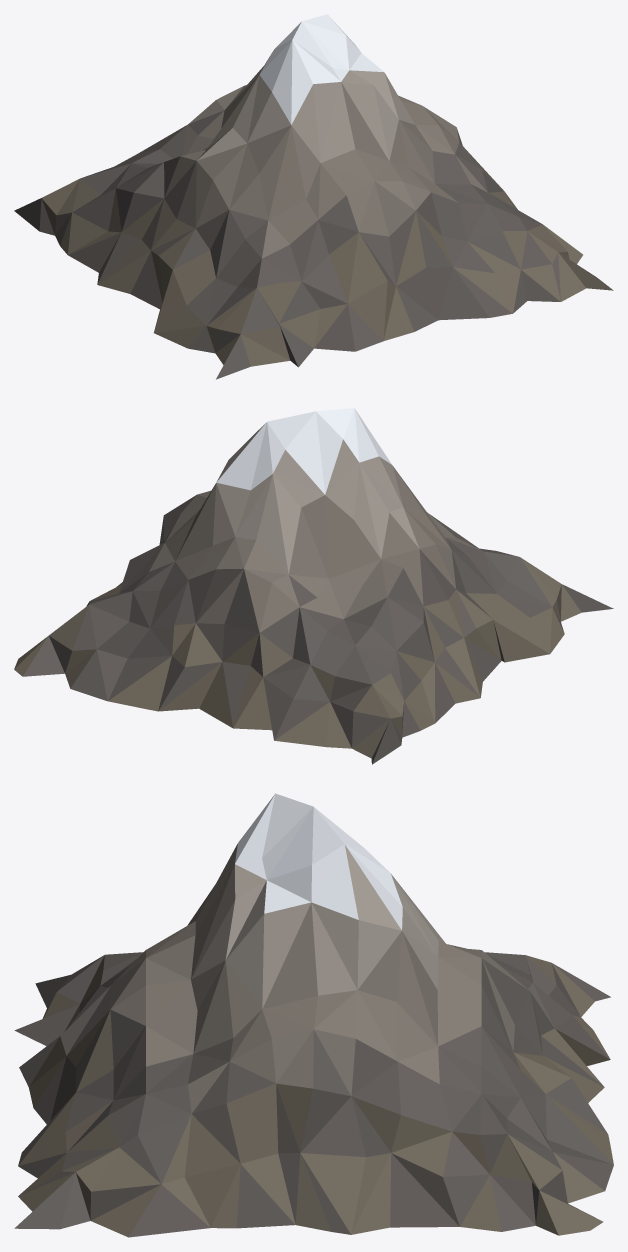
Rendered from mountain_c.obj.
The picture shows the model from 3 angles, top to bottom: view 1: azimuth 30°, elevation 25°; view 2: azimuth 150°, elevation 25°; view 3: azimuth 270°, elevation 25°; orthographic projection. The views are drawn at different scales.
Size of the model in its own units: 7.16 by 3.93 by 7.14.
